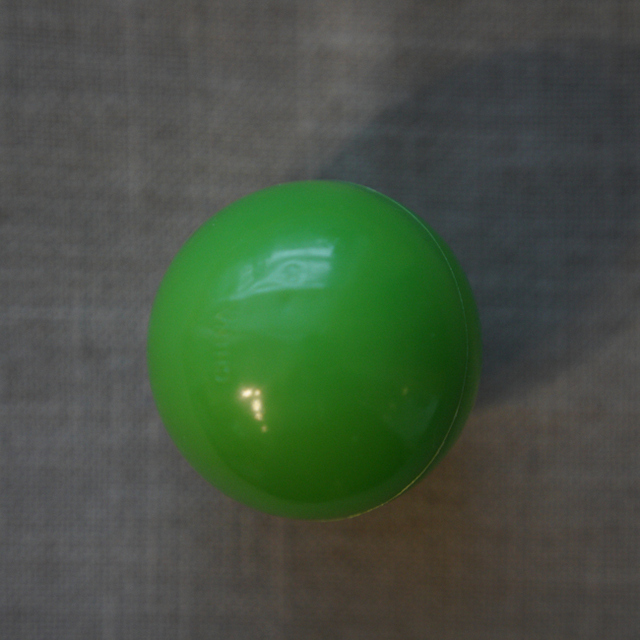Ball: (147, 181, 481, 523)
